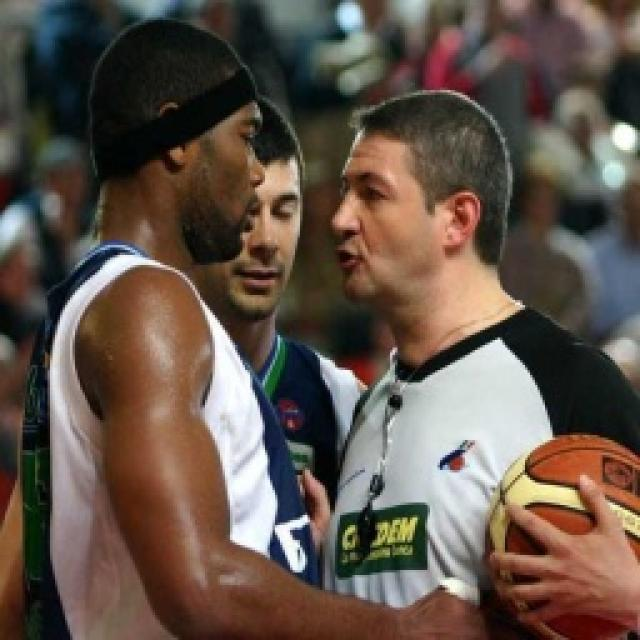rim: (486, 427, 640, 640)
